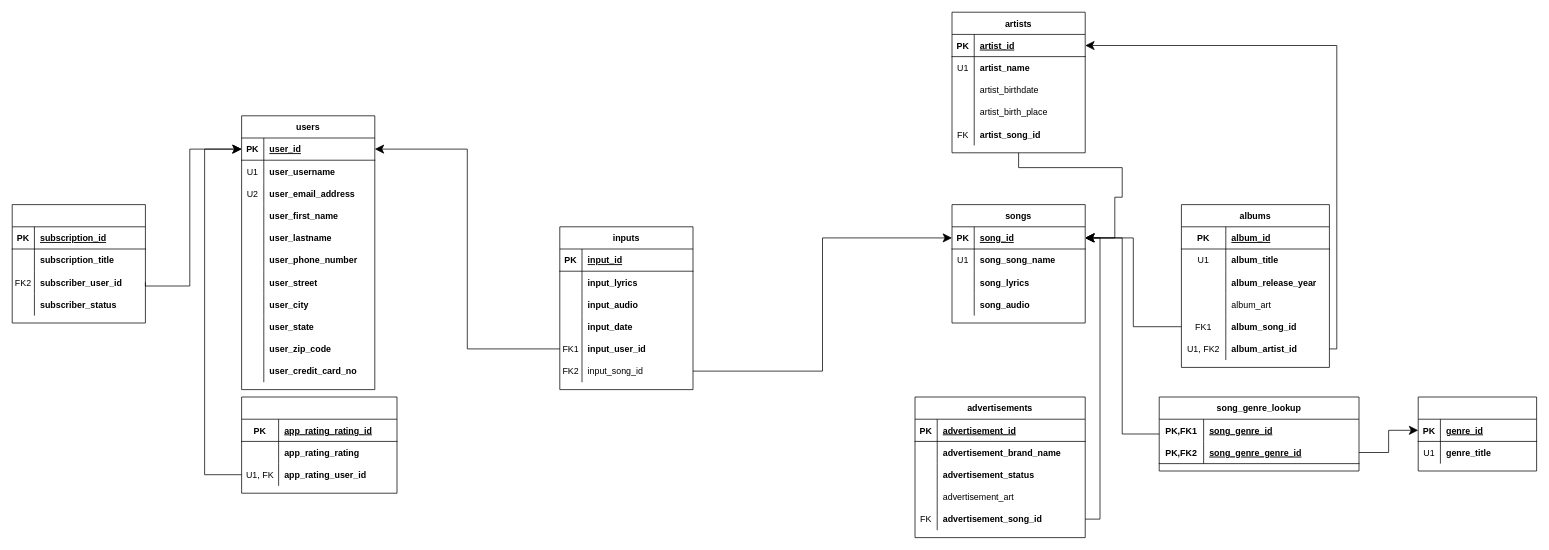
This 1549x550 diagram has some shape labels left out. Each missing label, with the box of its shape:
app_ratings: (241, 396, 397, 493)
genres: (1417, 396, 1537, 471)
subscriptions: (11, 204, 145, 323)
